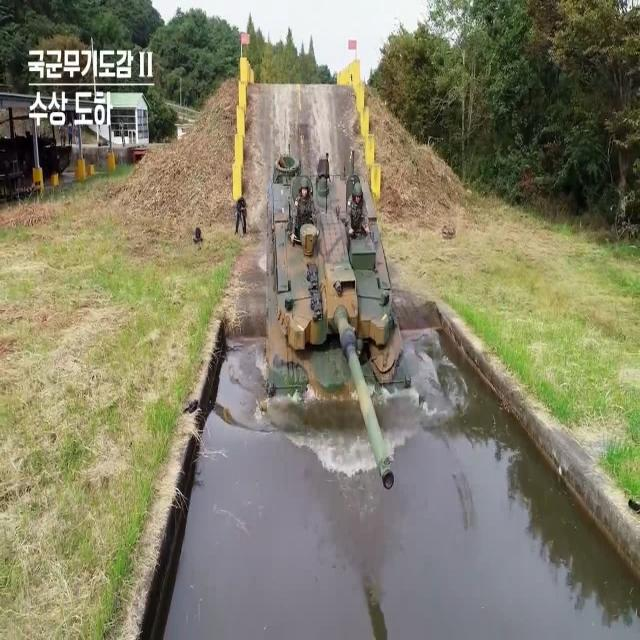korea tank: (258, 140, 427, 490)
